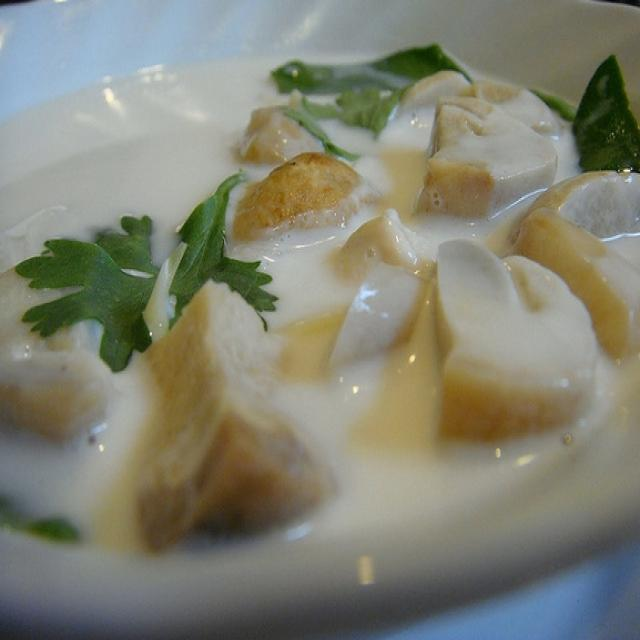汤锅炖物: (6, 26, 624, 608)
